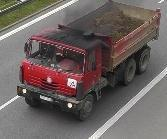truck: (15, 0, 161, 121)
